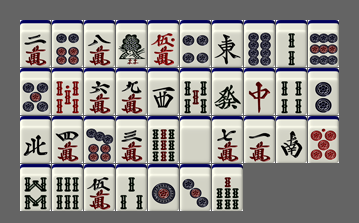0m: (148, 20, 179, 67)
0p: (308, 116, 339, 163)
0s: (52, 68, 83, 115)
1m: (244, 116, 275, 163)
1p: (148, 164, 179, 211)
1s: (116, 20, 147, 67)
1z: (212, 20, 243, 67)
2m: (20, 20, 51, 67)
2p: (308, 68, 339, 115)
2s: (276, 20, 307, 67)
2z: (276, 116, 307, 163)
3m: (116, 116, 147, 163)
3p: (180, 164, 211, 211)
3s: (116, 164, 147, 211)
3z: (148, 68, 179, 115)
4m: (52, 116, 83, 163)
4p: (180, 20, 211, 67)
4s: (276, 68, 307, 115)
4z: (20, 116, 51, 163)
5m: (84, 164, 115, 211)
5p: (20, 68, 51, 115)
5s: (180, 68, 211, 115)
5z: (180, 116, 211, 163)
6m: (84, 68, 115, 115)
6p: (52, 20, 83, 67)
6s: (52, 164, 83, 211)
6z: (212, 68, 243, 115)
7m: (212, 116, 243, 163)
7p: (84, 116, 115, 163)
7s: (212, 164, 243, 211)
7z: (244, 68, 275, 115)
8m: (84, 20, 115, 67)
8p: (244, 20, 275, 67)
8s: (20, 164, 51, 211)
9m: (116, 68, 147, 115)
9p: (308, 20, 339, 67)
9s: (148, 116, 179, 163)
